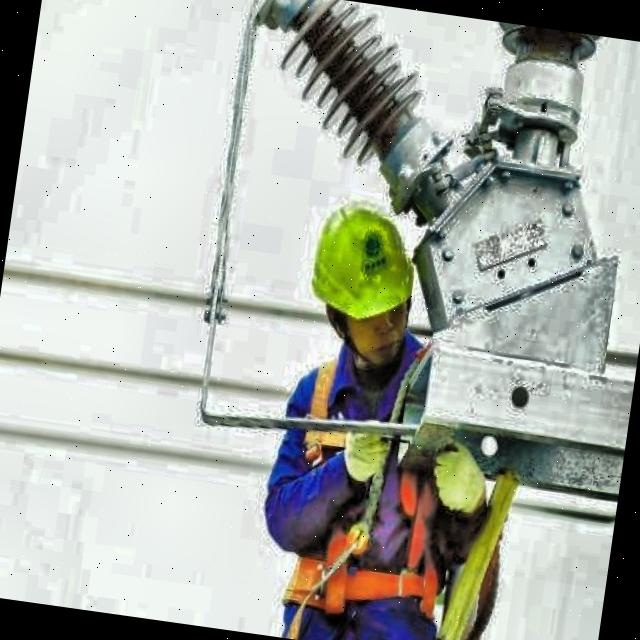helmet: (294, 170, 434, 388)
